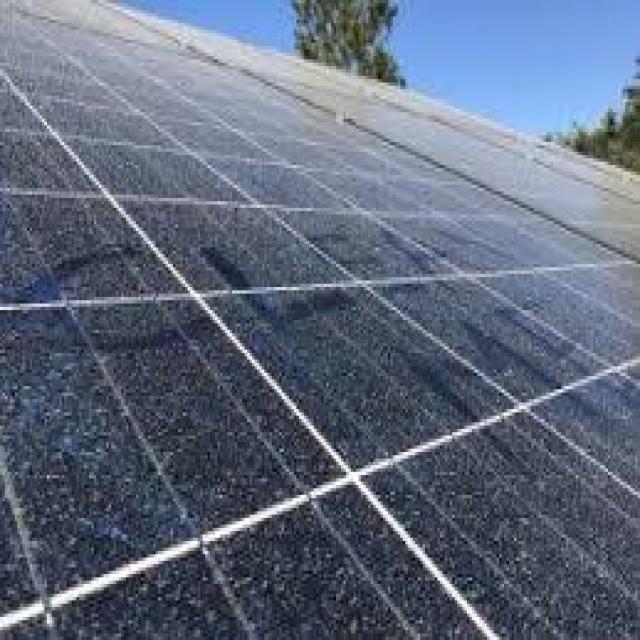dust-solar-panel: (0, 2, 640, 640)
